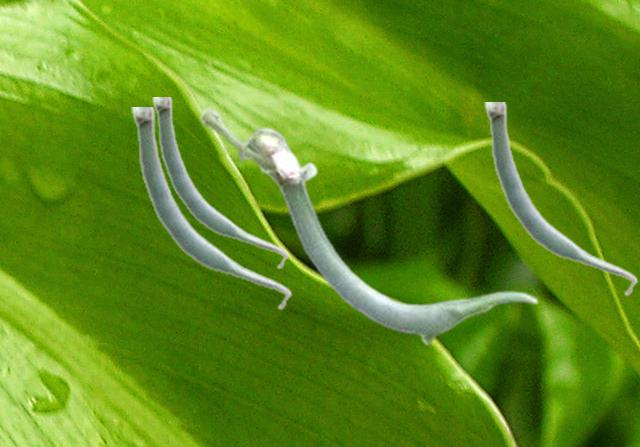french_bean: (199, 106, 538, 345), (131, 107, 291, 310), (484, 102, 637, 296), (152, 97, 288, 269)
